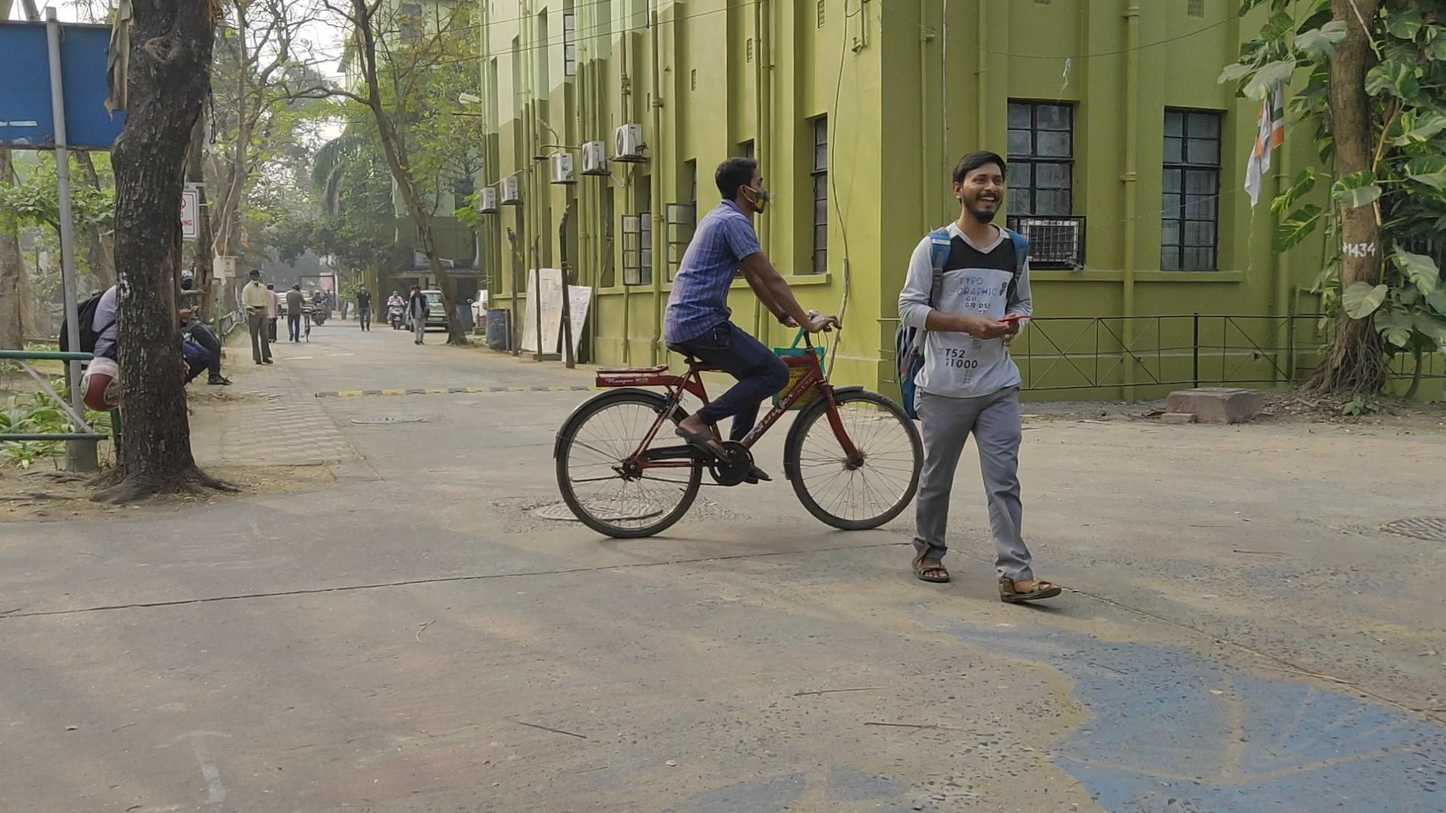bike: (554, 160, 922, 537), (285, 284, 313, 343), (385, 290, 408, 331), (310, 288, 328, 327)
car: (402, 290, 450, 334)
